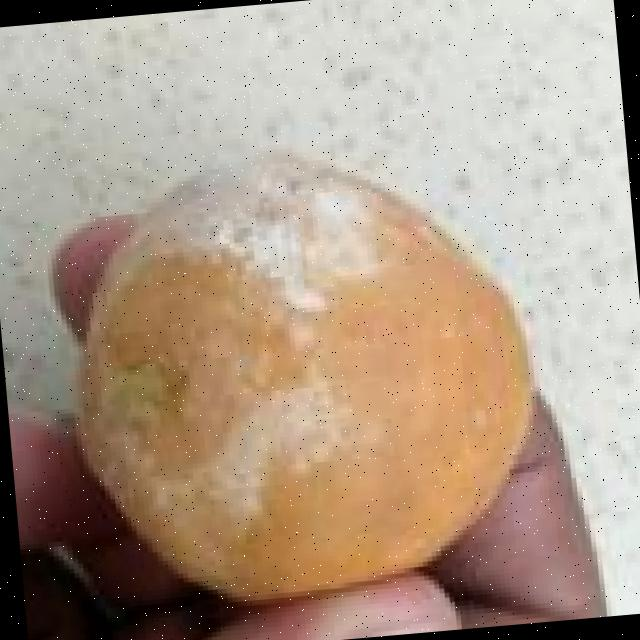Bad_Lime-0-1-day: (49, 151, 531, 607), (51, 152, 535, 606)
